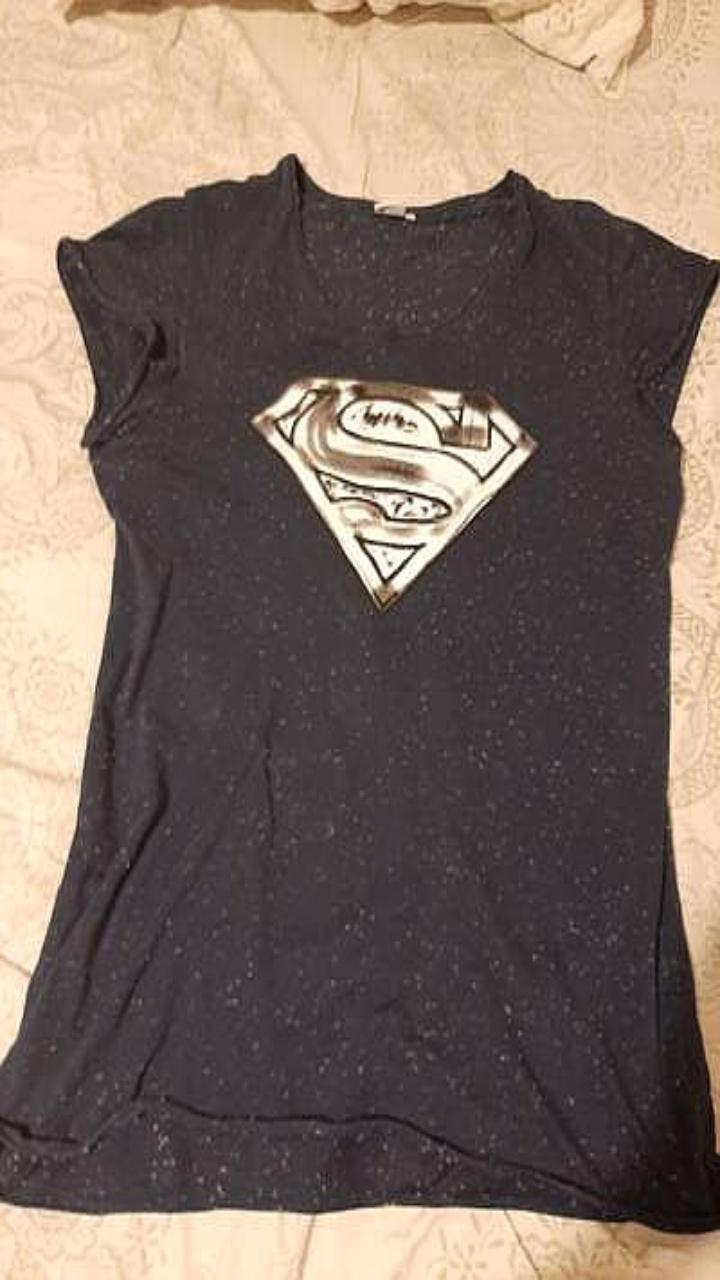T-Shirt: (0, 153, 719, 1231)
